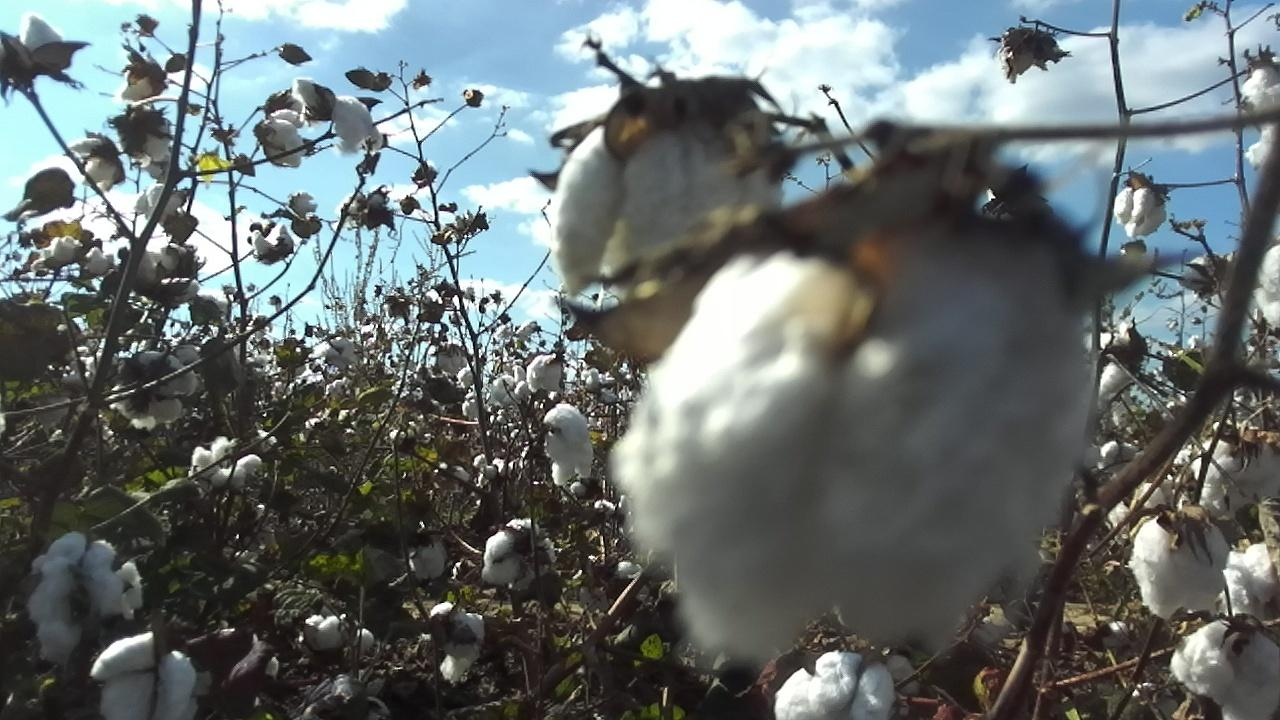cotton_ready: (605, 201, 1099, 661), (553, 99, 788, 300), (32, 530, 148, 668), (1169, 623, 1280, 720), (1133, 512, 1226, 620), (90, 634, 204, 720), (774, 650, 899, 720), (1193, 433, 1280, 518), (293, 78, 385, 156), (113, 351, 200, 433), (482, 520, 559, 592), (1216, 543, 1280, 619), (429, 602, 485, 687), (540, 402, 596, 486), (1084, 321, 1139, 400), (1240, 63, 1280, 165), (190, 437, 261, 492), (131, 245, 201, 299), (304, 612, 378, 656), (18, 18, 73, 76), (1112, 184, 1170, 236), (69, 137, 121, 191), (123, 114, 173, 165), (262, 106, 303, 167), (132, 182, 187, 224), (1255, 247, 1280, 332), (1006, 34, 1048, 83), (119, 57, 164, 101), (1179, 256, 1223, 293)
